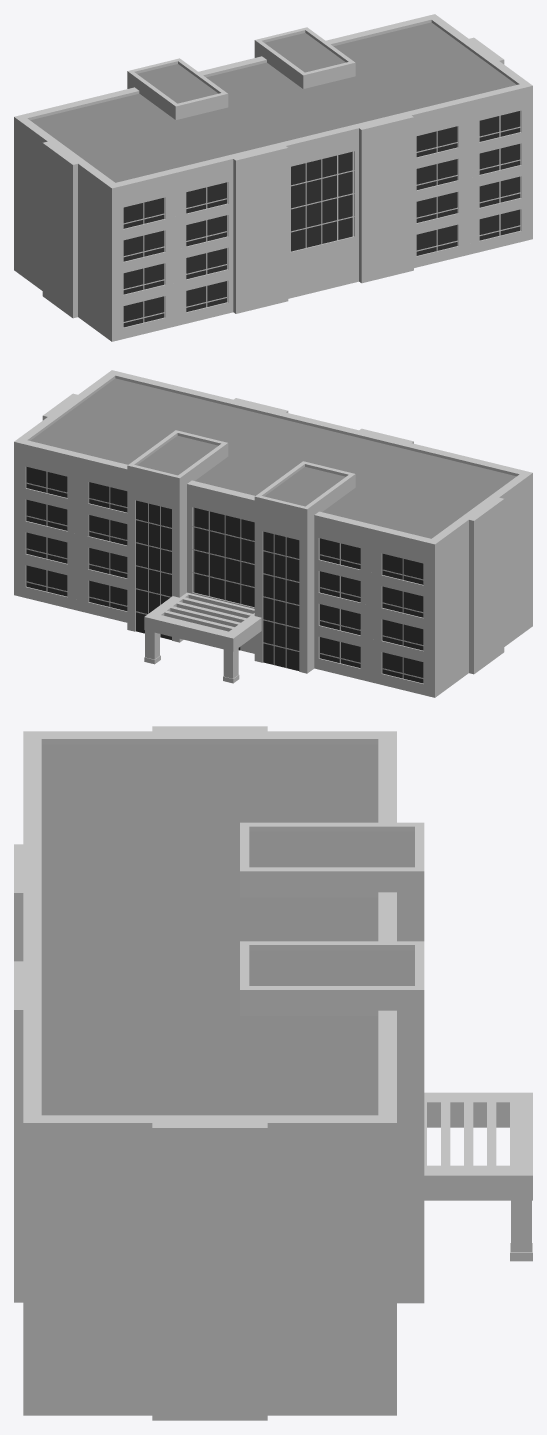
The model's file is spw-urban-bldg-12.glb.
3 views of the same model, one above another, from view 1: azimuth 30°, elevation 25°; view 2: azimuth 150°, elevation 25°; view 3: azimuth 270°, elevation 25° (orthographic). The views are drawn at different scales.
Visible parts, largest first — view 1: SPW_Urban_Bldg_12; view 2: SPW_Urban_Bldg_12; view 3: SPW_Urban_Bldg_12.
Boxes of the visible parts, bbox=[...] form: SPW_Urban_Bldg_12: bbox=[14, 14, 532, 341]; SPW_Urban_Bldg_12: bbox=[14, 370, 532, 697]; SPW_Urban_Bldg_12: bbox=[14, 726, 532, 1420].
Size of the model in its own units: 41.2 by 15 by 22.5.
1 material, 1 textured.
